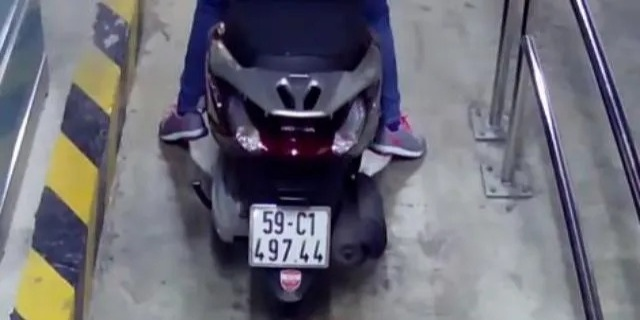bien_so: (249, 202, 331, 269)
